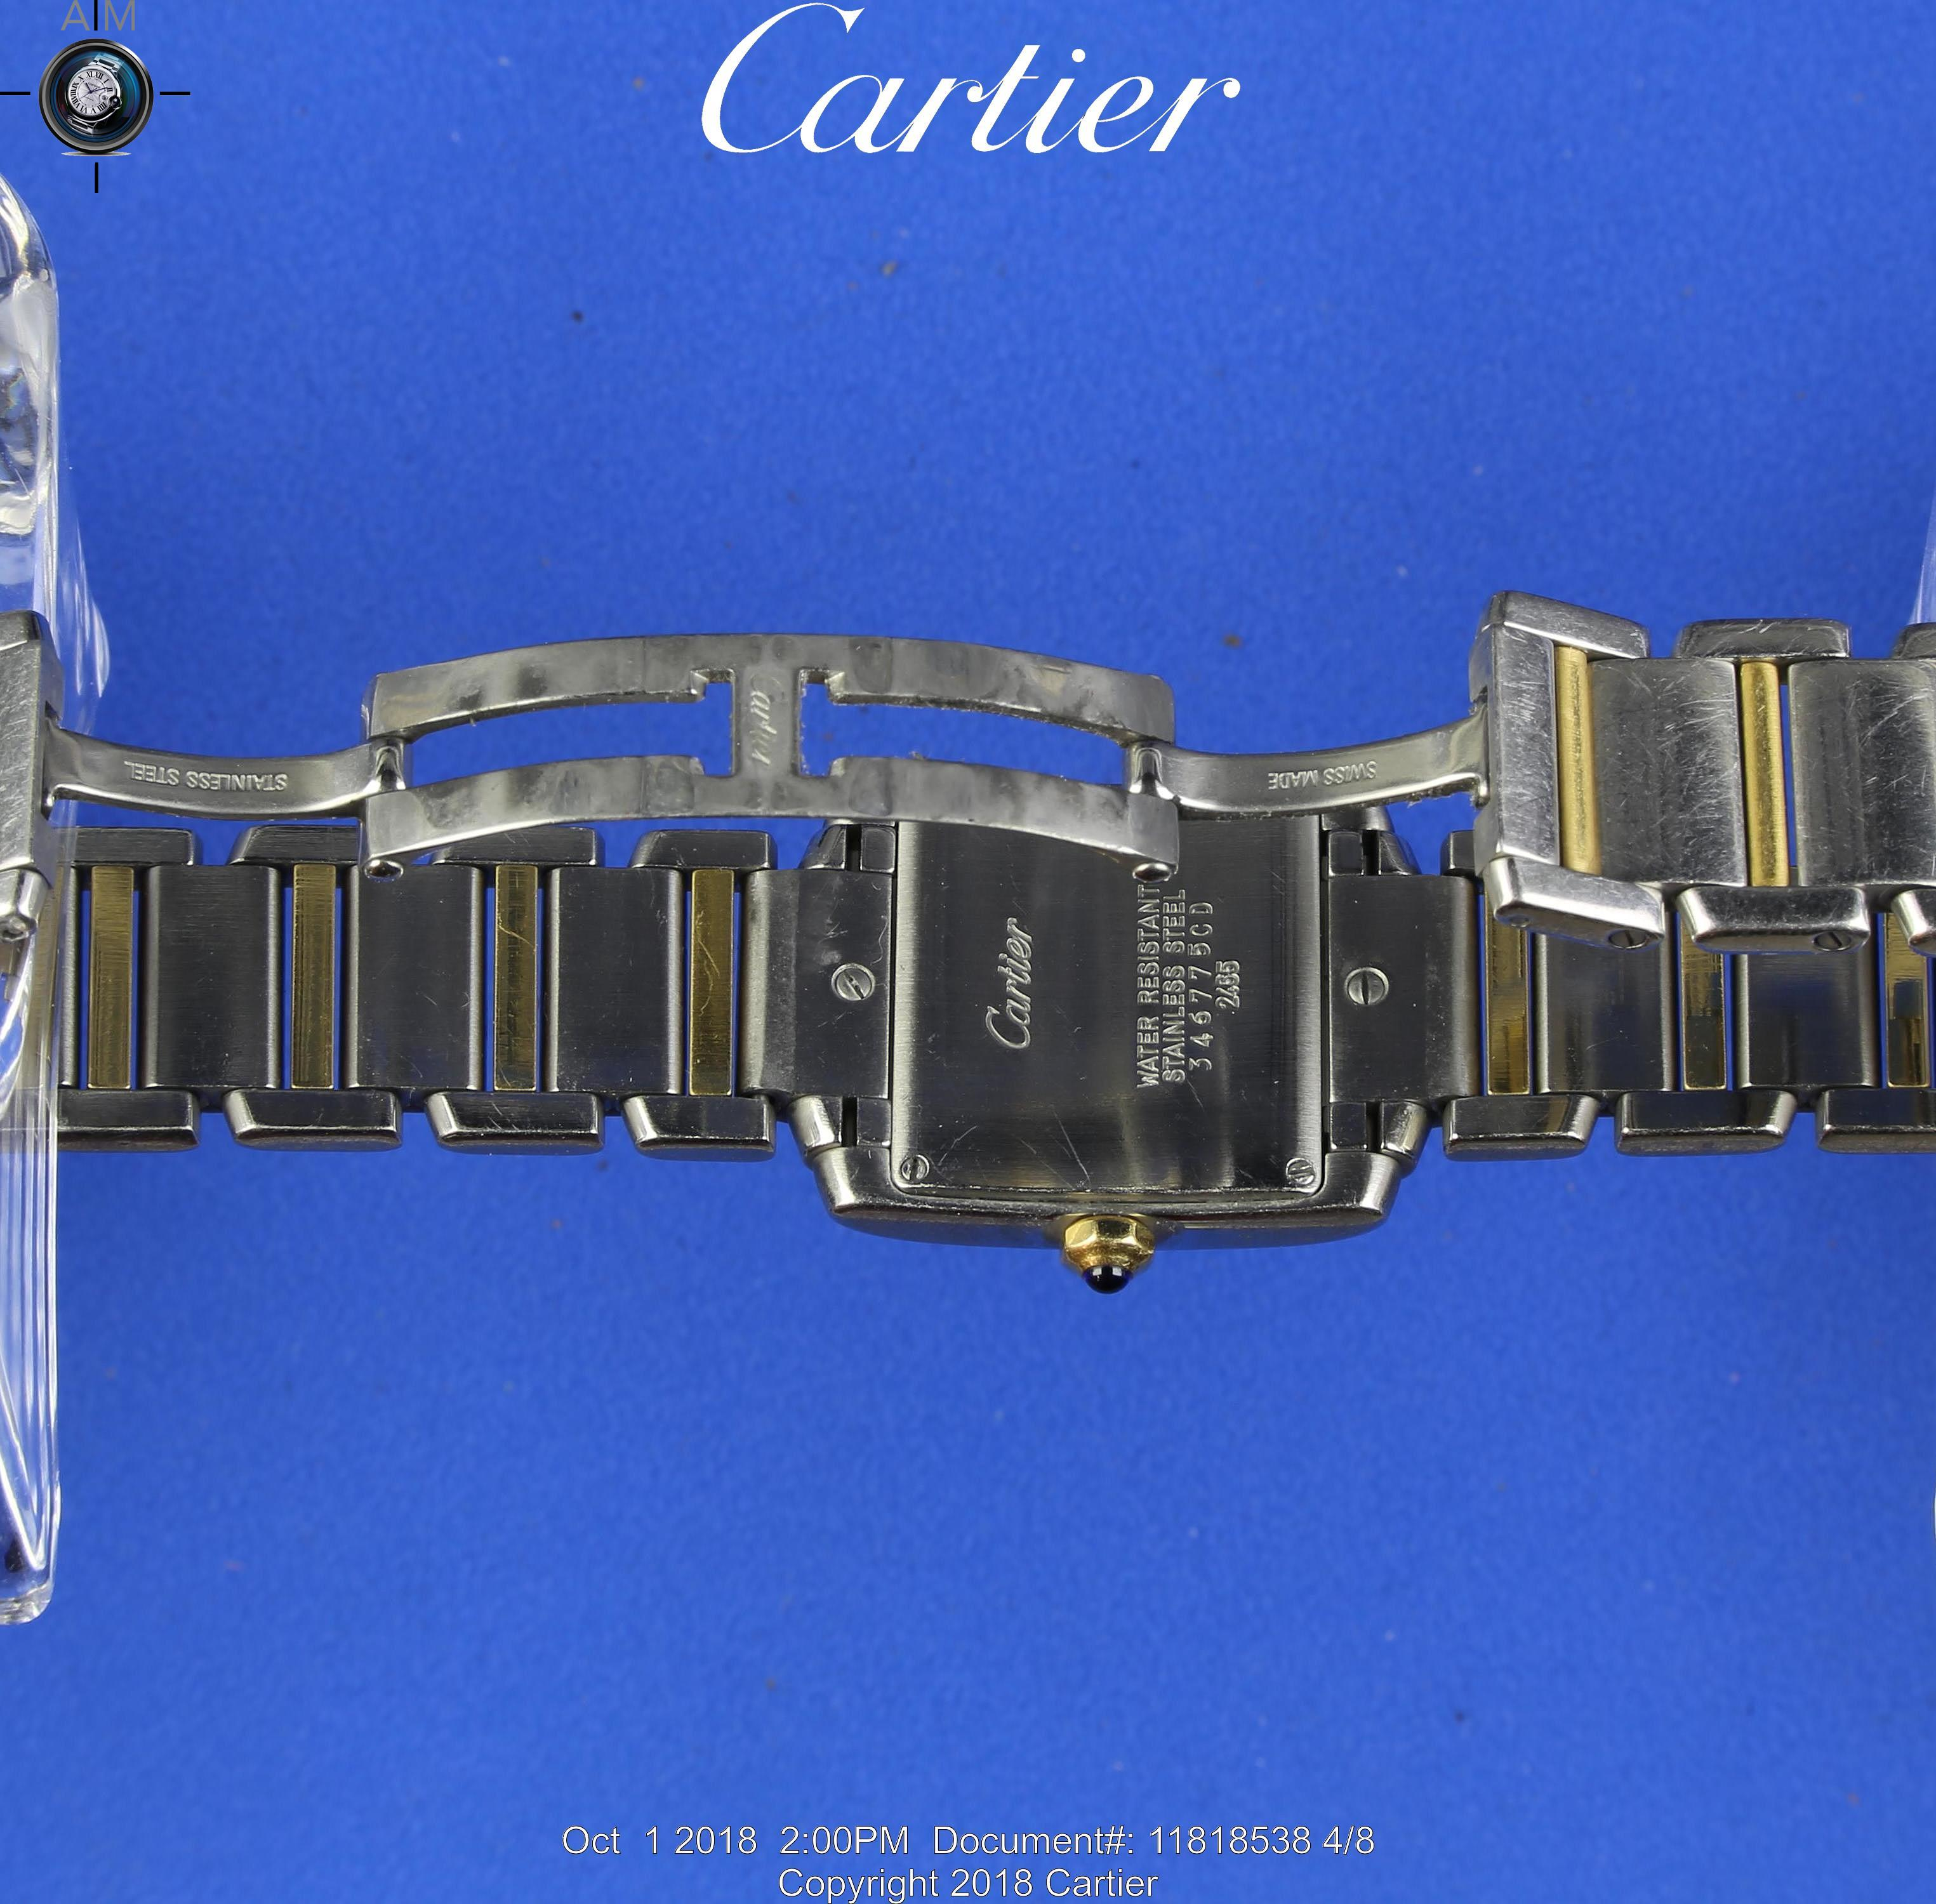watchback: (860, 776, 1392, 1234)
